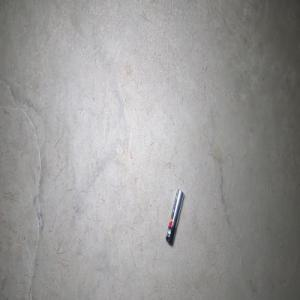Battery: (165, 188, 184, 245)
